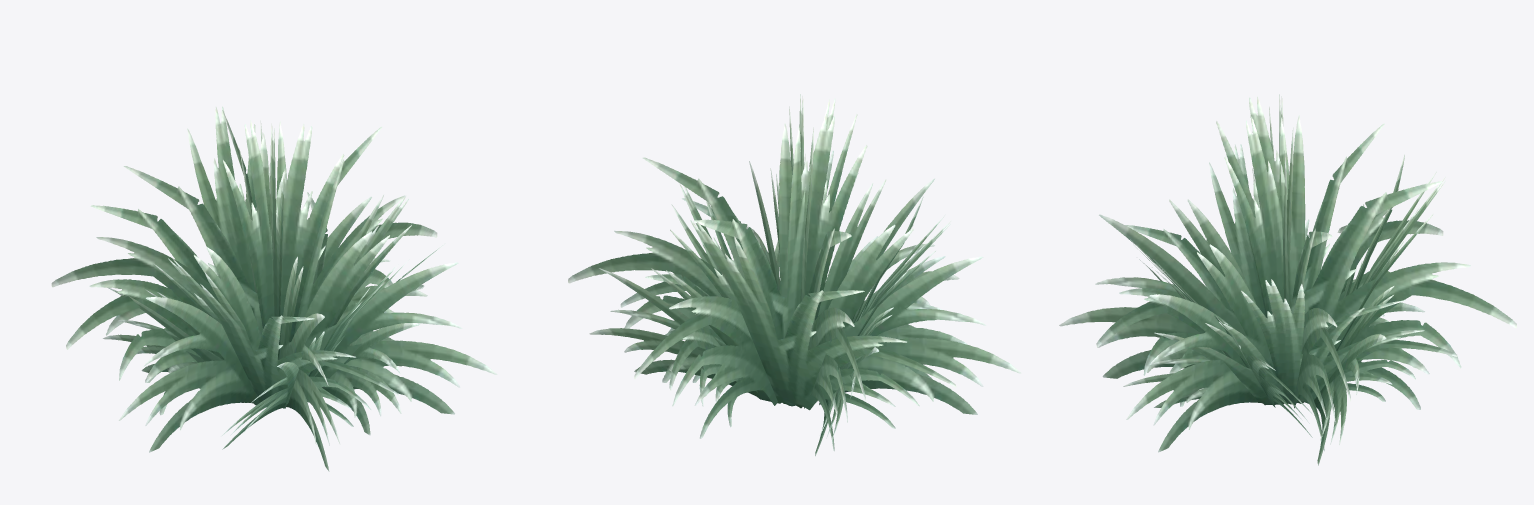
Rendered from grass_snow.glb.
The picture shows the model from 3 angles, left to right: view 1: azimuth 30°, elevation 25°; view 2: azimuth 150°, elevation 25°; view 3: azimuth 270°, elevation 25°; orthographic projection.
Visible parts, largest first — view 1: grass_snow; view 2: grass_snow; view 3: grass_snow.
Part boxes in pixels (bbox=[...]): grass_snow: bbox=[51, 106, 497, 471]; grass_snow: bbox=[568, 94, 1021, 456]; grass_snow: bbox=[1059, 94, 1516, 465].
Size of the model in its own units: 0.6844 by 0.4815 by 0.7023.
1 material, 1 textured.
